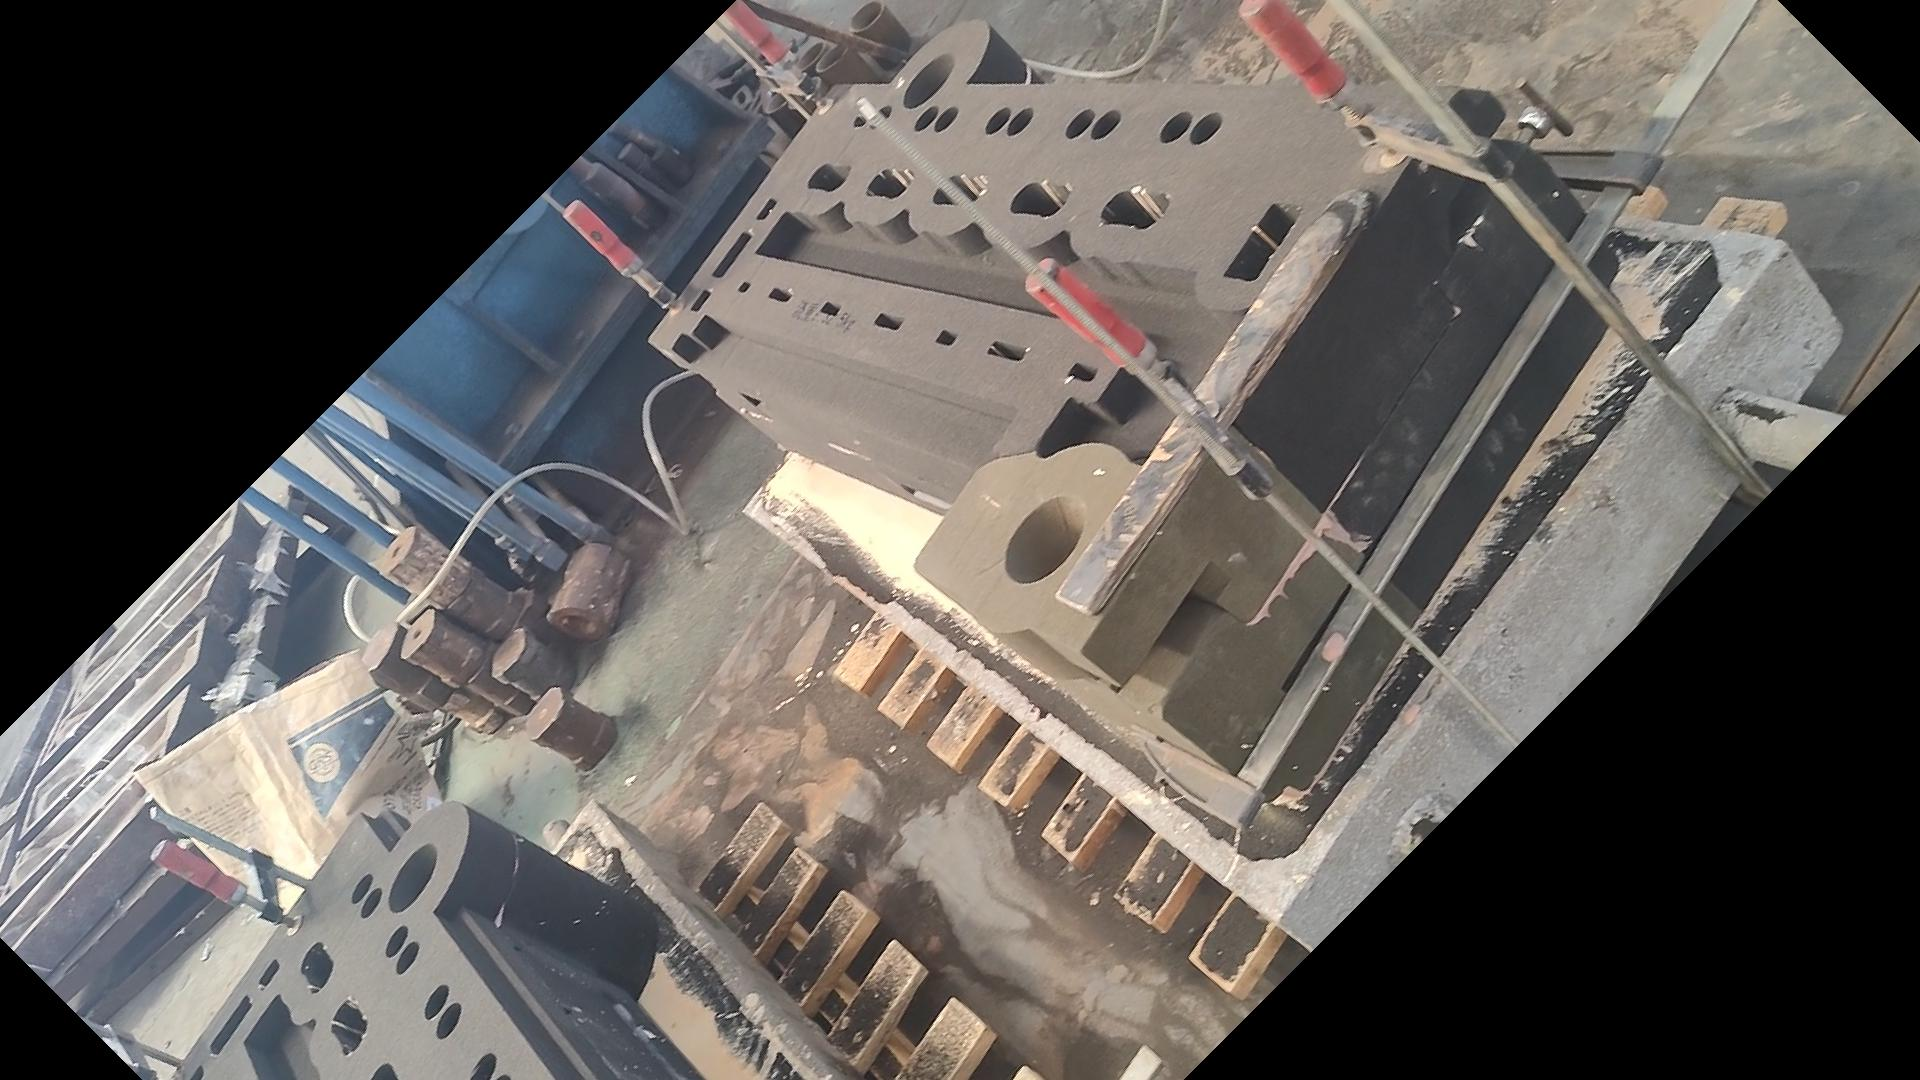pouring hole: (1004, 492, 1087, 585), (386, 841, 438, 913), (902, 51, 955, 109), (848, 1, 885, 30), (815, 42, 847, 71), (796, 41, 825, 70), (799, 76, 820, 98), (766, 92, 787, 111), (789, 73, 807, 94)
